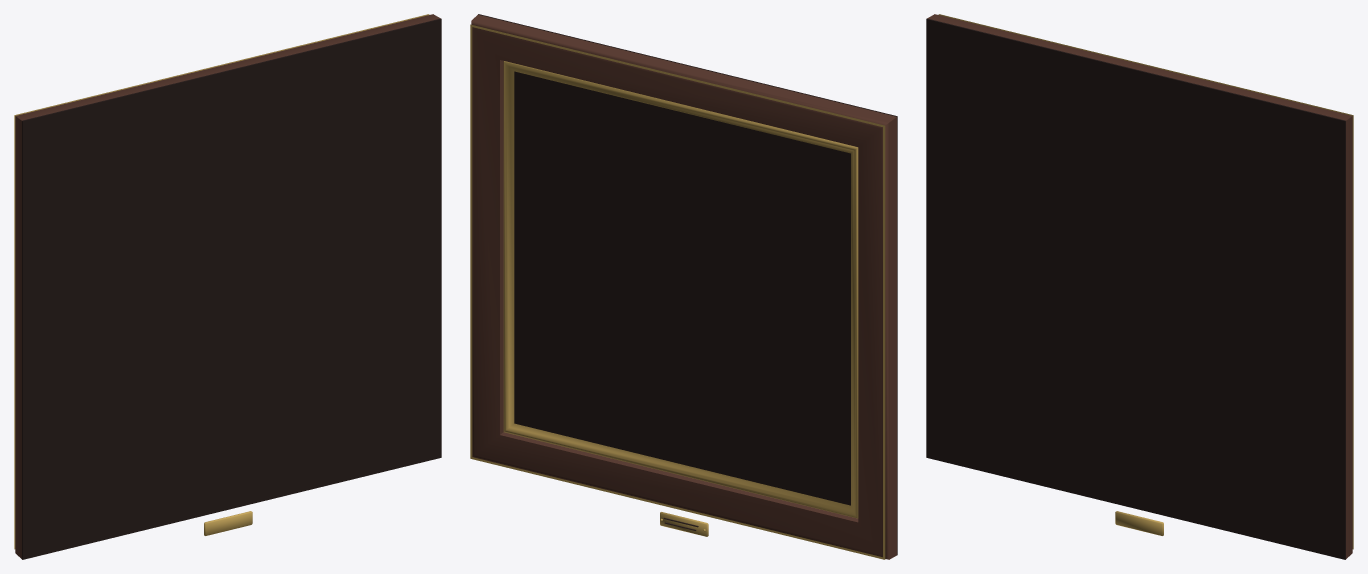
The model's file is walnut_gold_square.glb.
3 views of the same model, side by side, from view 1: azimuth 30°, elevation 25°; view 2: azimuth 150°, elevation 25°; view 3: azimuth 330°, elevation 25° (orthographic).
Parts seen in each view (by area): view 1: walnut_gold_square; view 2: walnut_gold_square; view 3: walnut_gold_square.
Part boxes in pixels (<box>): walnut_gold_square: <box>14,14,441,559</box>; walnut_gold_square: <box>470,14,897,559</box>; walnut_gold_square: <box>926,14,1353,559</box>.
Size of what is drawn, in the model's own units: 1.22 by 1.28 by 0.053.
